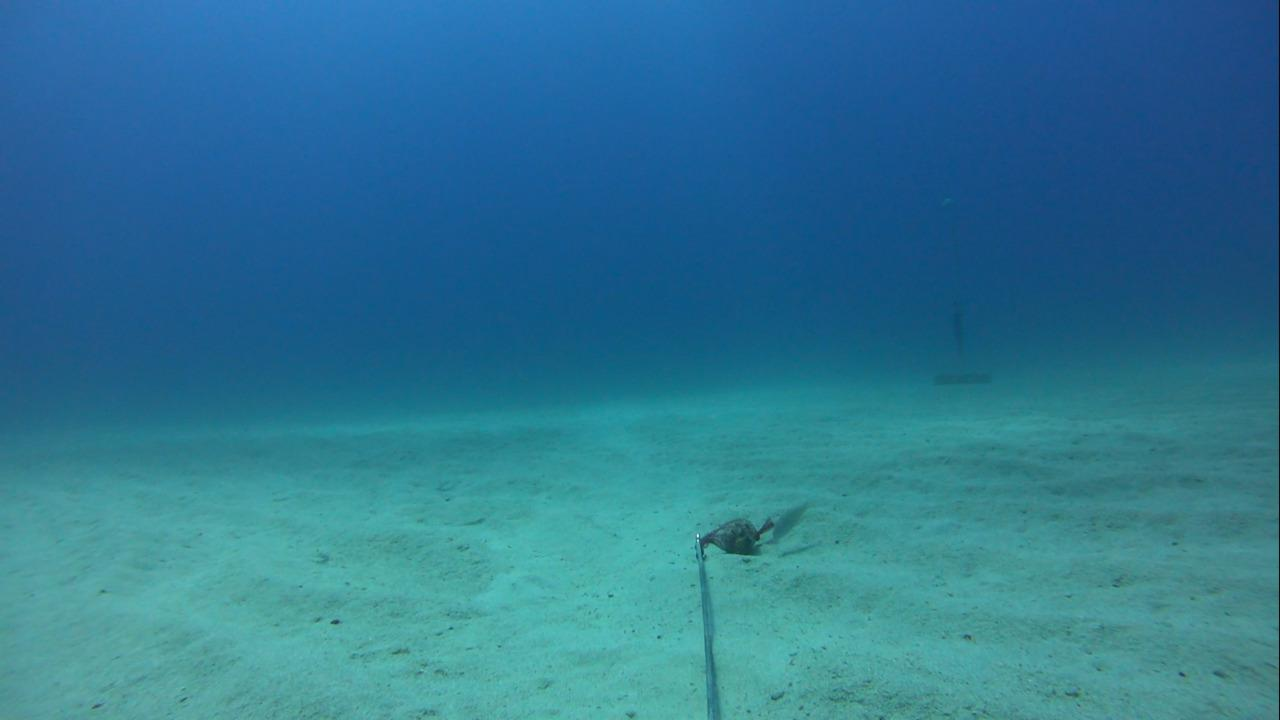raor: (763, 490, 812, 545)
